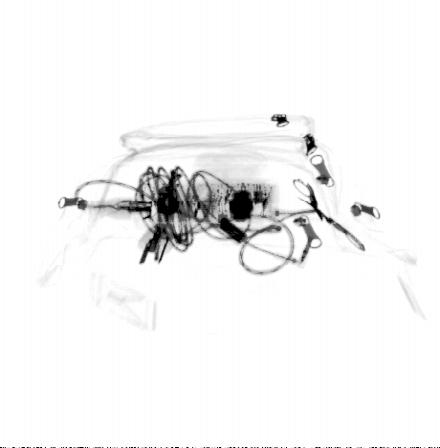Scissors: (293, 178, 365, 251)
